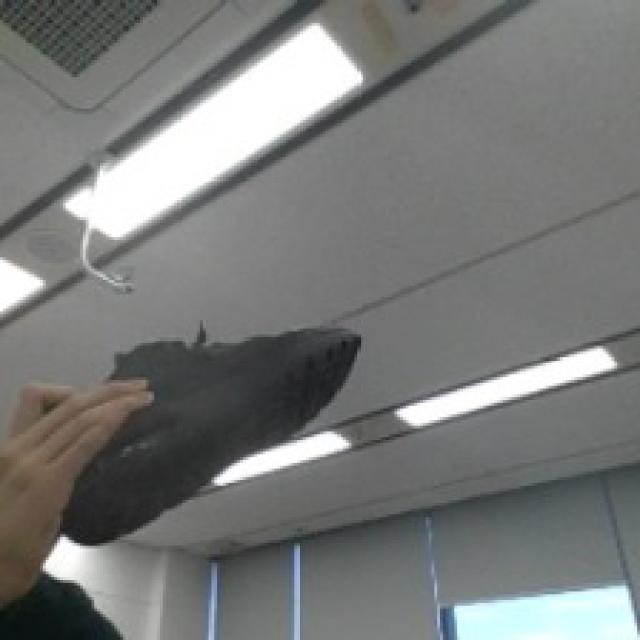shoe: (35, 302, 386, 532)
